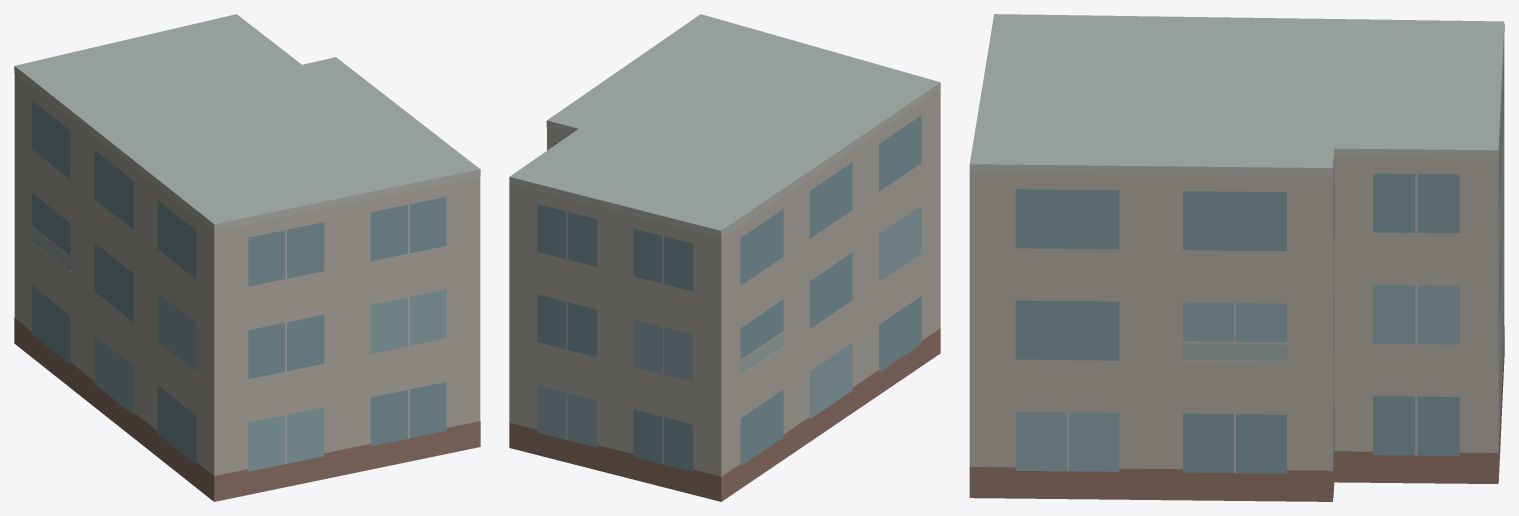
The model's file is survey-upis-32914880.glb.
3 views of the same model, side by side, from view 1: azimuth 30°, elevation 25°; view 2: azimuth 150°, elevation 25°; view 3: azimuth 270°, elevation 25° (orthographic). The views are drawn at different scales.
Visible parts, largest first — view 1: survey-upis-32914880.tmp; view 2: survey-upis-32914880.tmp; view 3: survey-upis-32914880.tmp.
Boxes of the visible parts, bbox=[...] form: survey-upis-32914880.tmp: bbox=[14, 14, 480, 501]; survey-upis-32914880.tmp: bbox=[509, 14, 940, 501]; survey-upis-32914880.tmp: bbox=[969, 14, 1504, 501].
Bounding box in the file's own units: 9.07 × 9.15 × 13.3.
